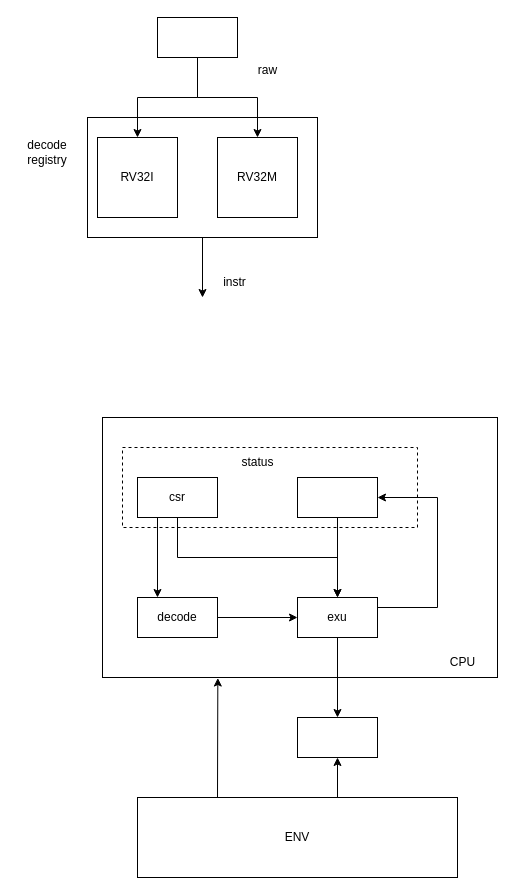
The diagram is 515 pixels wide and 895 high, and some of its shapes have lost their labels. Each missing label, with the box of its shape:
memory interface: (296, 716, 378, 758)
opcode: (156, 16, 238, 58)
rf: (296, 476, 378, 518)
